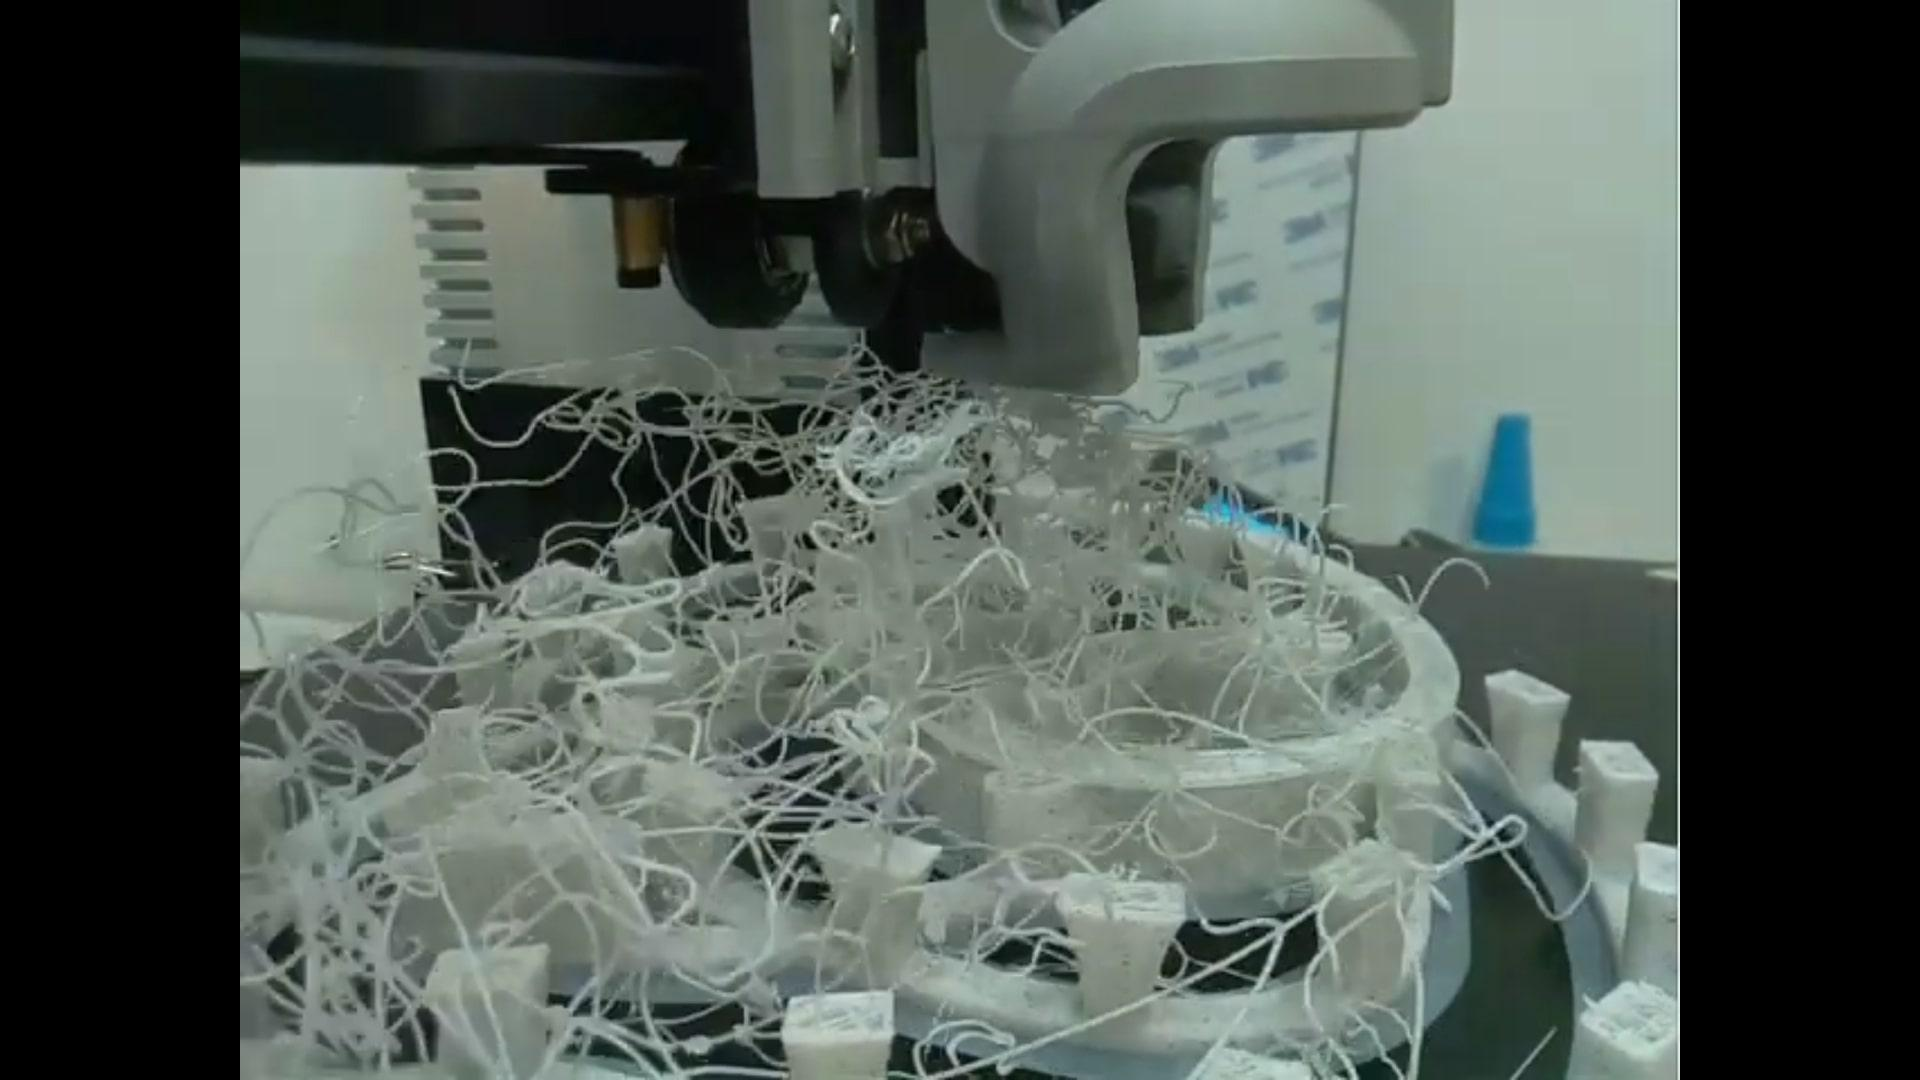Printing-Artifact: (243, 319, 1358, 1073)
